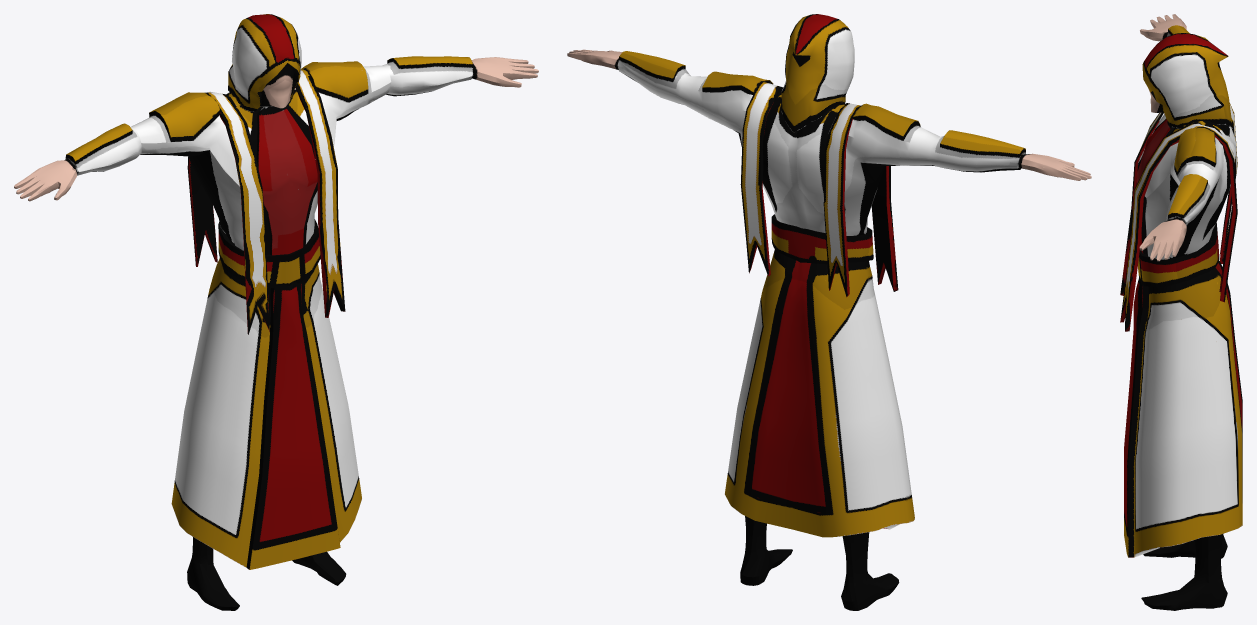
The model's file is Cultist_Enemy_1_Done.fbx.
3 renders of one model, left to right at view 1: azimuth 30°, elevation 25°; view 2: azimuth 150°, elevation 25°; view 3: azimuth 270°, elevation 25°, orthographic. The views are drawn at different scales.
Parts seen in each view (by area): view 1: Hood; view 2: Hood; view 3: Hood.
Part boxes in pixels (x1,y1,x2,y2): Hood: [14, 14, 538, 610]; Hood: [567, 14, 1091, 610]; Hood: [1120, 14, 1242, 610].
Bounding box in the file's own units: 1890 × 402 × 1967.
Materials: 1 (1 with a texture image).
